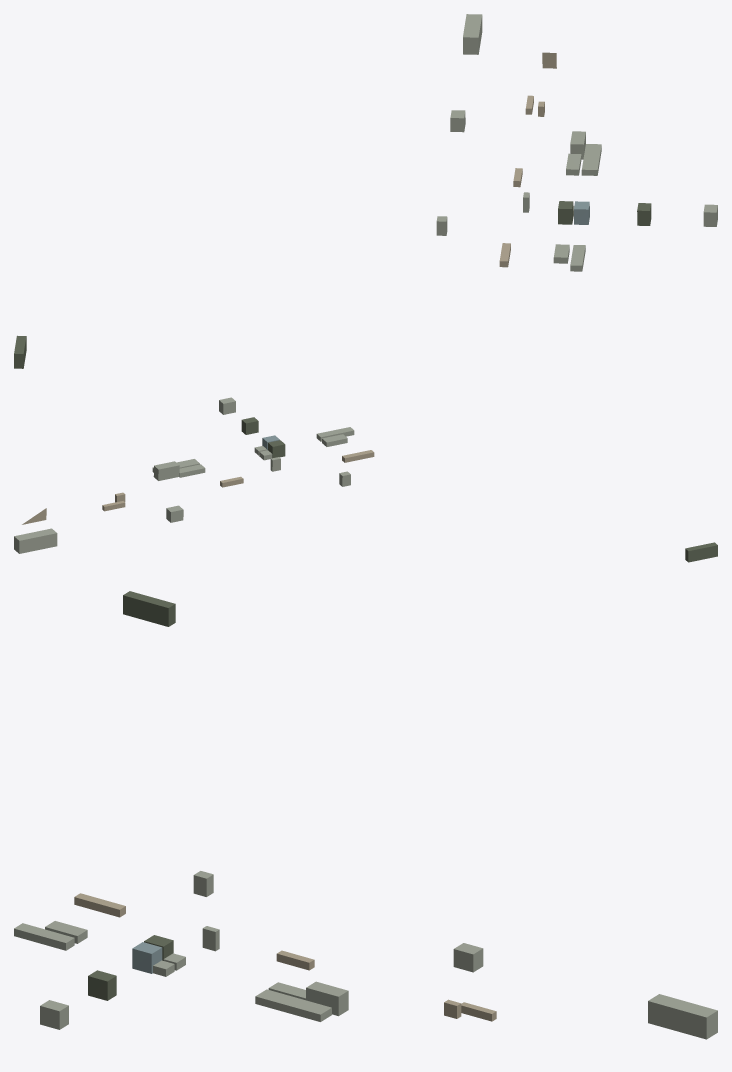
The model's file is terminal-1---141_-16.glb.
The picture shows the model from 3 angles, top to bottom: view 1: azimuth 30°, elevation 25°; view 2: azimuth 150°, elevation 25°; view 3: azimuth 270°, elevation 25°; orthographic projection. The views are drawn at different scales.
Visible parts, largest first — view 1: measured-industrial; view 2: measured-industrial; view 3: measured-industrial.
Boxes of the visible parts, x1,y1,x2,y2 form: measured-industrial: [14, 14, 717, 368]; measured-industrial: [14, 397, 717, 562]; measured-industrial: [14, 591, 717, 1039].
Size of the model in its own units: 136 by 3.87 by 89.59.
